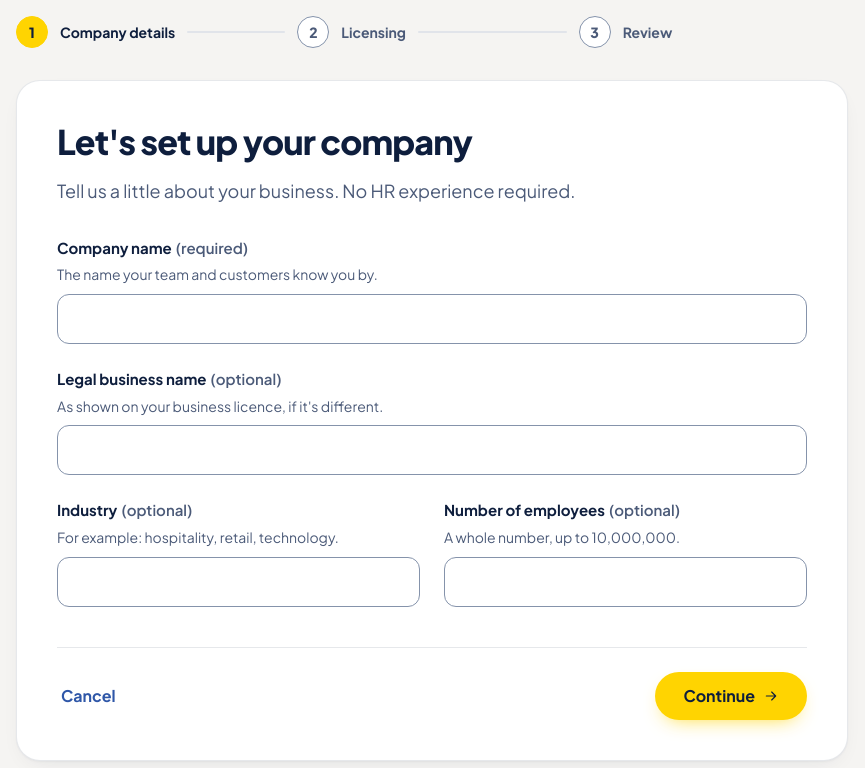
Test: OnboardingWizard: licensing (step 2) › offers exactly DIFC, Other and I'm not sure, with no follow-up questions
Type "Gamma Trading" into the field labelled "Company name(required)" at [432, 319], box top-left (57, 294), bottom-right (807, 344)
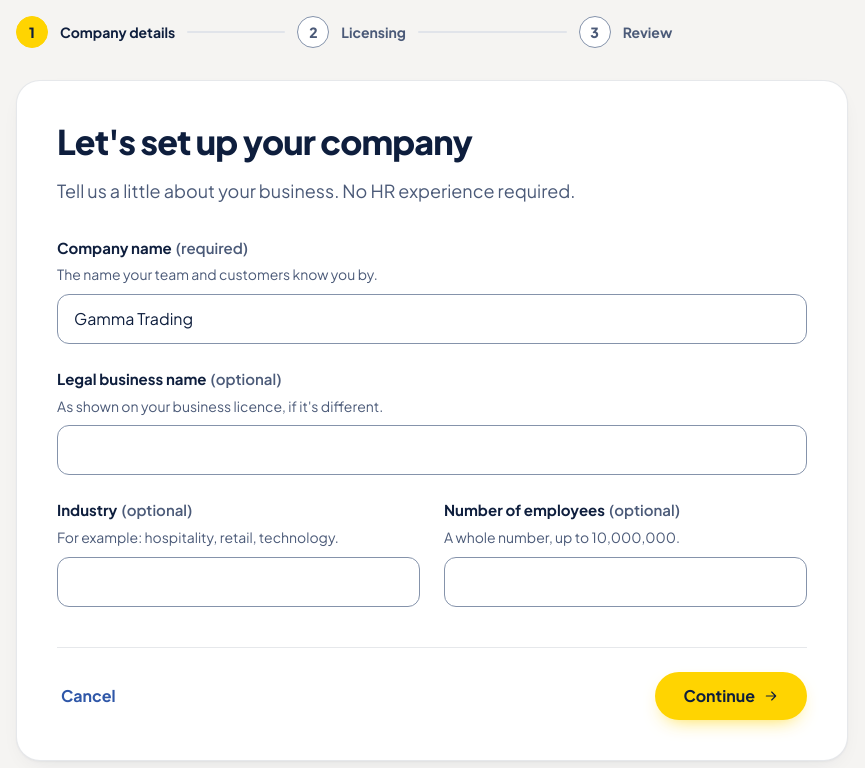
Type "Gamma Trading FZ-LLC" into the field labelled "Legal business name(optional)" at [432, 450], box top-left (57, 425), bottom-right (807, 475)
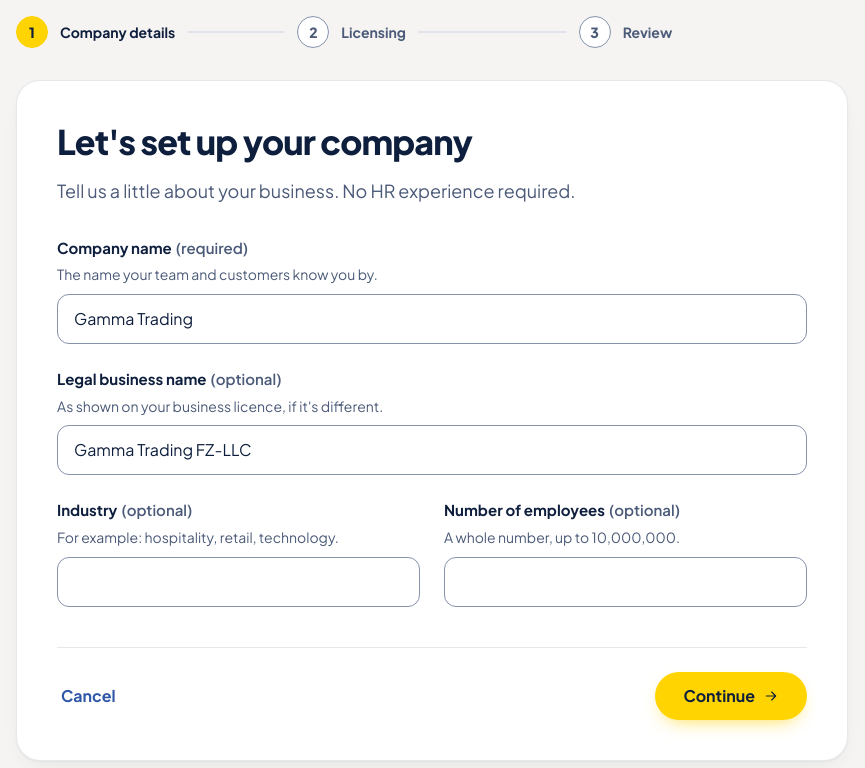
Type "12" into the field labelled "Number of employees(optional)" at [626, 582], box top-left (444, 556), bottom-right (807, 606)
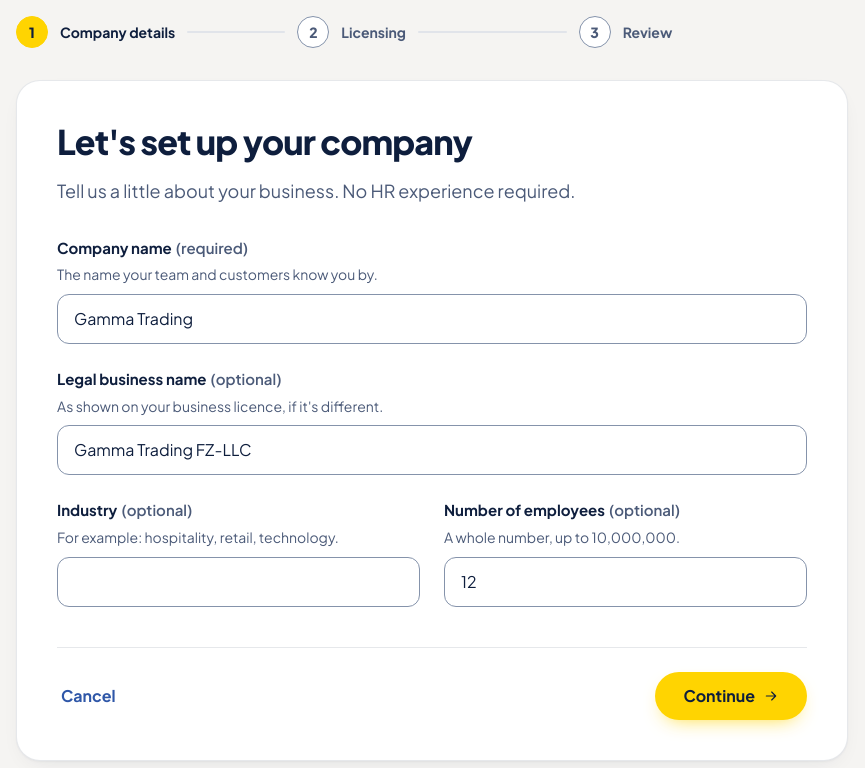
Click the button "Continue" at [731, 696], box top-left (655, 672), bottom-right (807, 720)
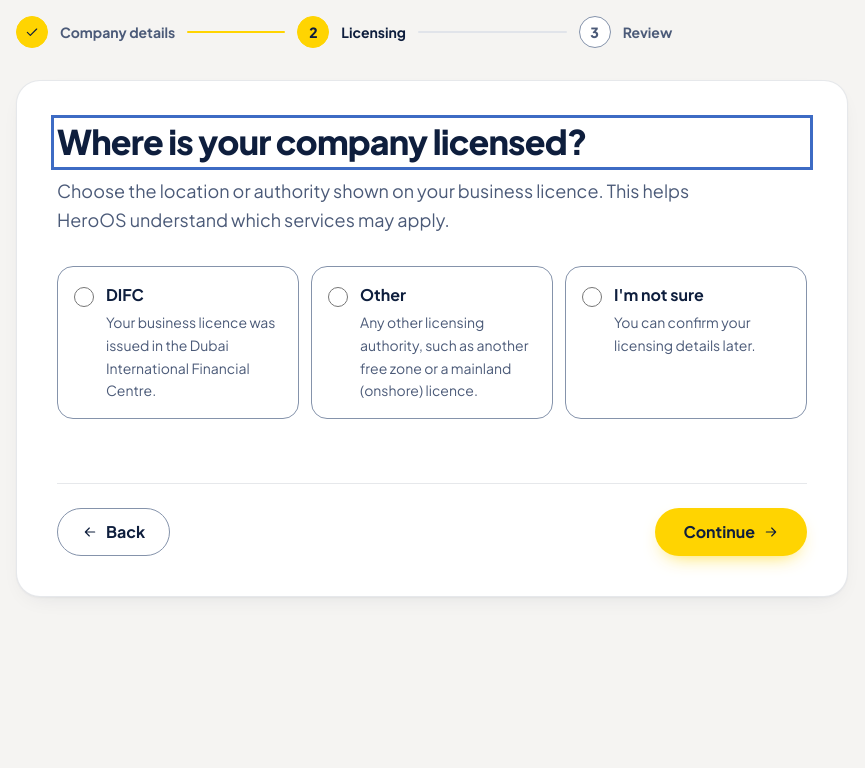
Click the radio button labelled "I'm not sure You can confirm your licensing details later." at [592, 297], box top-left (582, 287), bottom-right (602, 307)
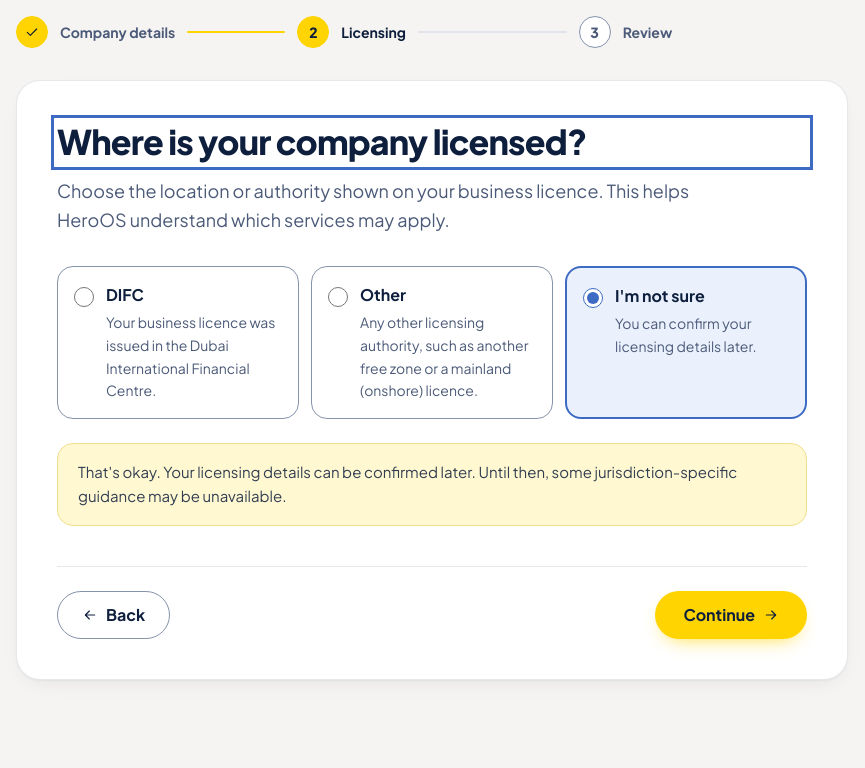
Expected: the number of radio buttons is 3, top-left (74, 287), bottom-right (94, 307); top-left (328, 287), bottom-right (348, 307); top-left (583, 288), bottom-right (603, 308)
Expected: the text "That's okay. Your licensing details can be confirmed later." is shown, top-left (78, 462), bottom-right (737, 505)
